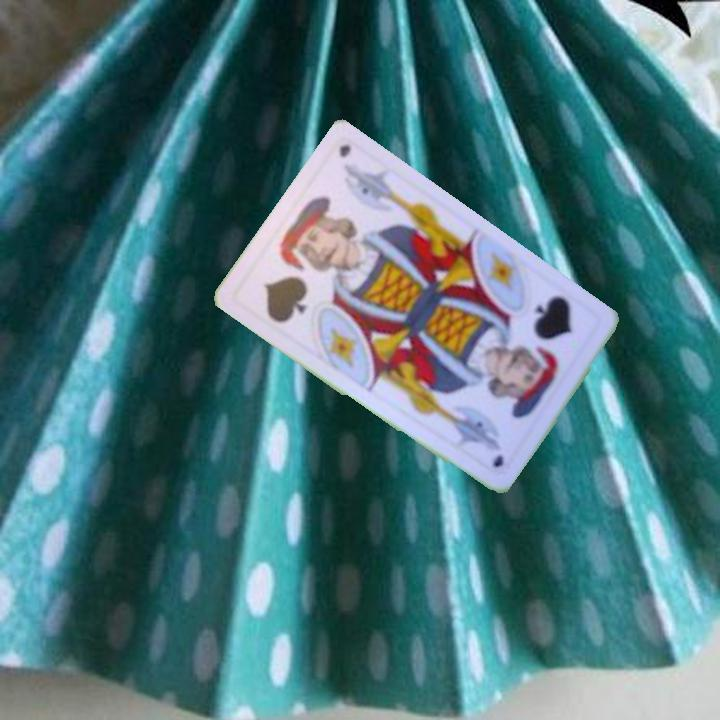s_j.png: (479, 275, 605, 404), (232, 216, 358, 344)
